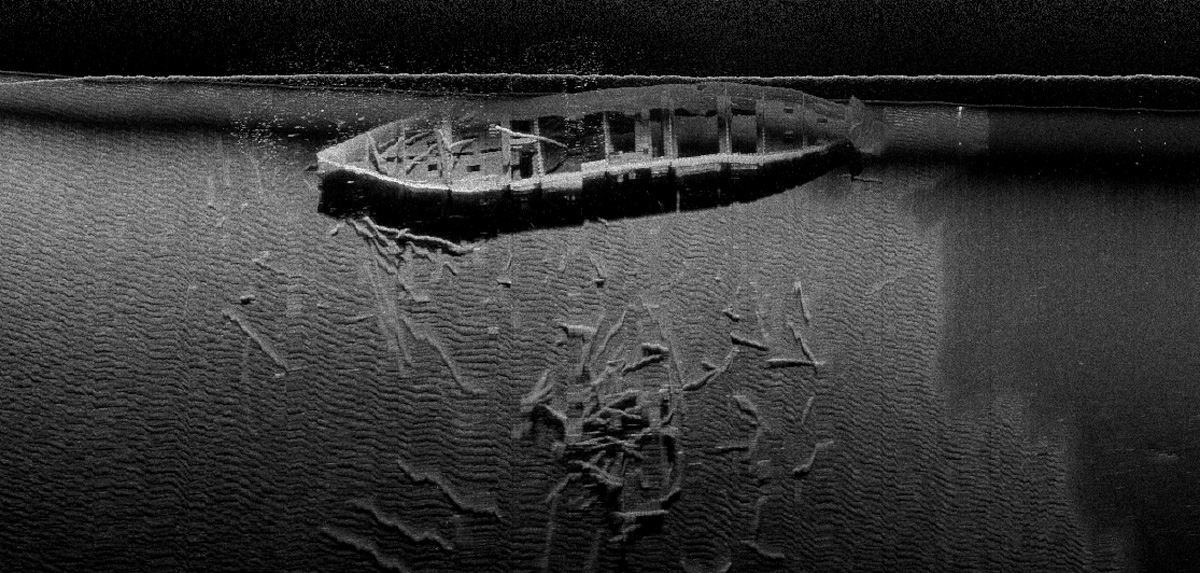ship: (311, 82, 874, 214)
